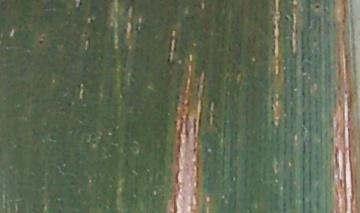tarspot: (314, 4, 321, 11), (38, 38, 44, 44), (78, 1, 84, 7), (89, 17, 94, 24)
